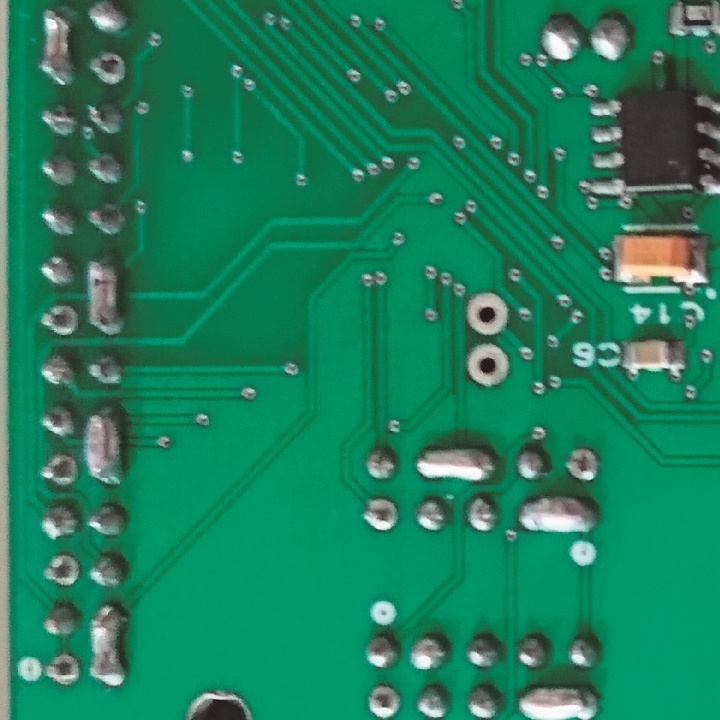F: (464, 286, 512, 336), (463, 339, 509, 390), (359, 493, 399, 537), (42, 647, 81, 690), (86, 49, 128, 86), (37, 452, 79, 489), (564, 443, 600, 485), (364, 681, 401, 720), (41, 551, 81, 587), (39, 301, 77, 338)
P: (84, 600, 133, 686), (82, 251, 129, 338), (514, 492, 598, 540), (81, 404, 129, 486), (37, 1, 79, 91), (413, 445, 505, 486), (514, 682, 603, 719)
